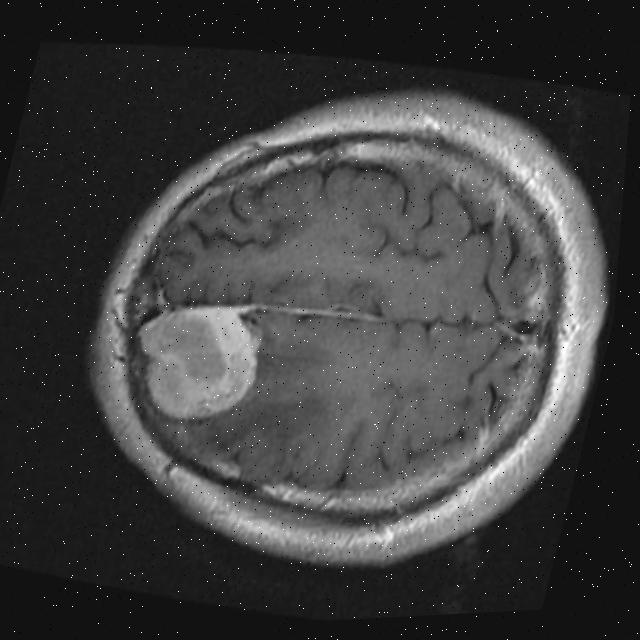Meningioma: (114, 277, 274, 434)
